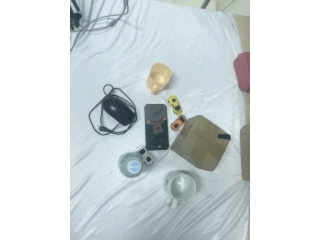bottle: (118, 149, 144, 180)
box: (170, 115, 231, 171)
cup: (164, 169, 200, 205), (147, 62, 173, 95)
mouse: (100, 90, 137, 131)
phone: (141, 99, 172, 151)
toy_car: (134, 142, 156, 164), (168, 115, 186, 131), (168, 95, 182, 115)
